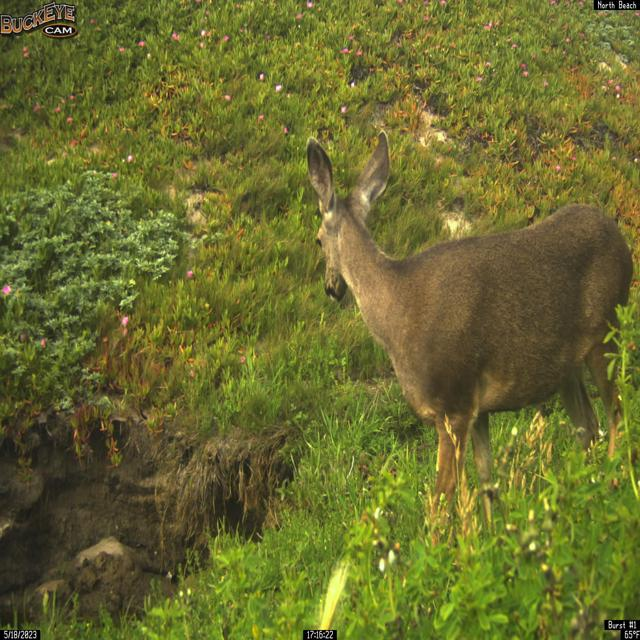deer: (305, 131, 634, 545)
